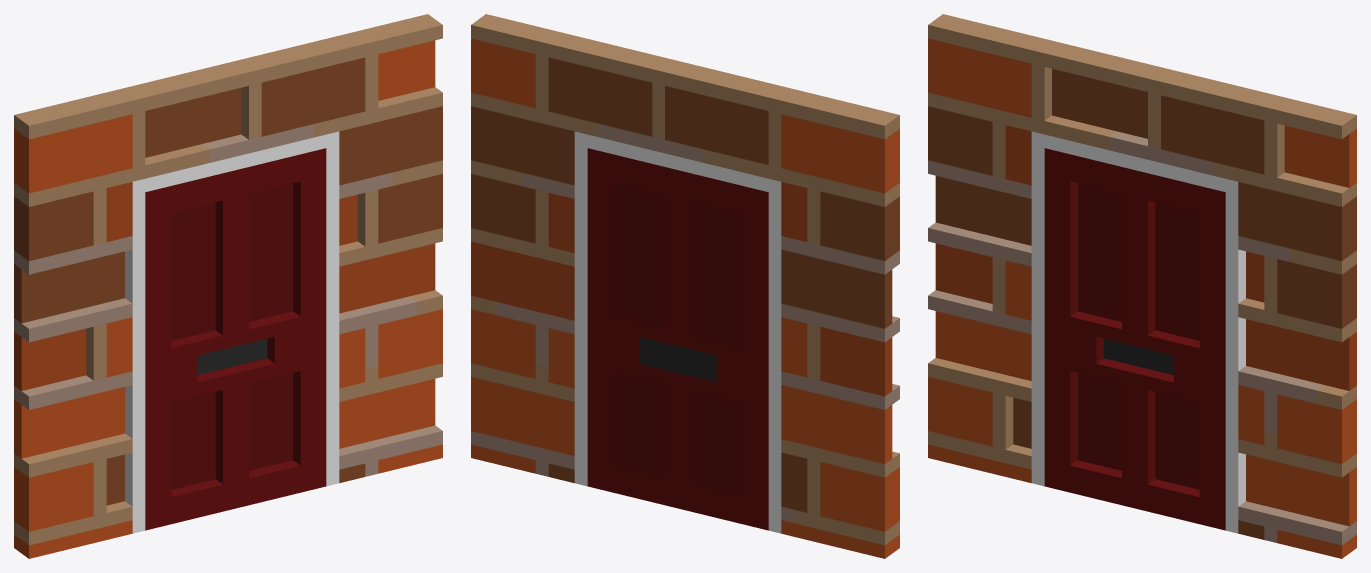
The model's file is Brick_Wall_Door.obj.
The picture shows the model from 3 angles, left to right: view 1: azimuth 30°, elevation 25°; view 2: azimuth 150°, elevation 25°; view 3: azimuth 330°, elevation 25°; orthographic projection.
Size of the model in its own units: 3.2 by 3.2 by 0.2.
1 material, 1 textured.
